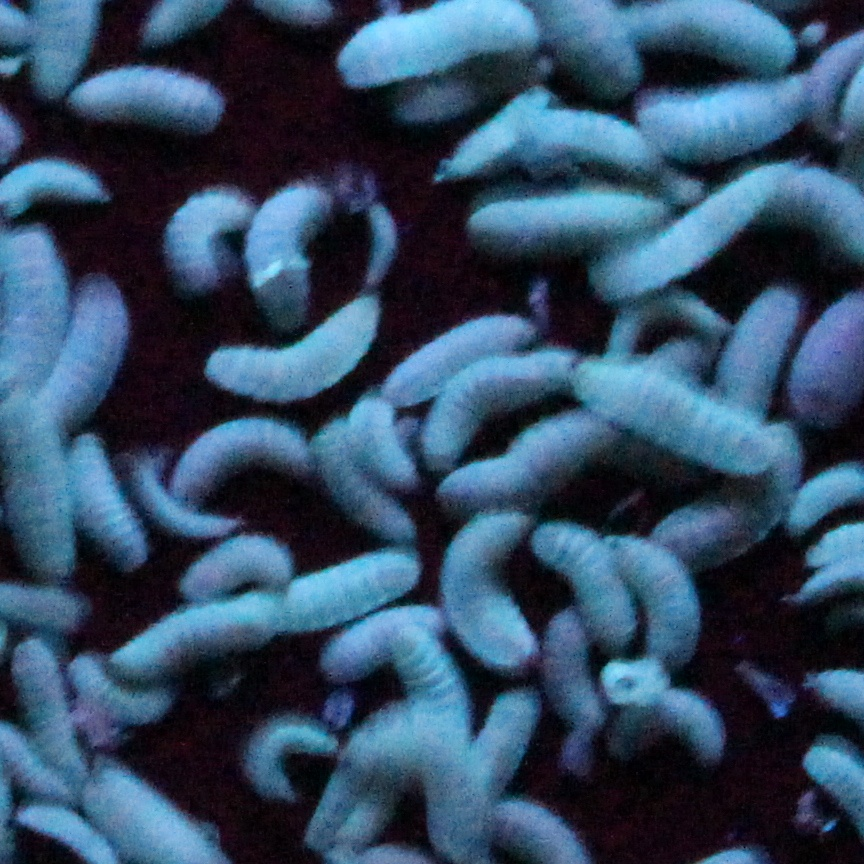larve: (566, 372, 788, 472), (441, 507, 544, 667), (608, 189, 751, 296), (0, 438, 96, 590), (148, 168, 251, 297), (119, 596, 273, 682), (408, 685, 487, 850), (233, 686, 337, 809), (340, 9, 533, 75), (159, 430, 318, 508), (459, 171, 655, 234), (630, 0, 794, 71), (57, 276, 133, 420), (323, 432, 423, 539), (648, 79, 811, 142), (419, 357, 544, 439), (62, 72, 229, 131), (623, 539, 705, 657), (12, 639, 87, 764), (203, 327, 355, 386), (598, 689, 719, 753), (270, 564, 407, 620), (555, 539, 626, 639), (262, 196, 326, 296)
